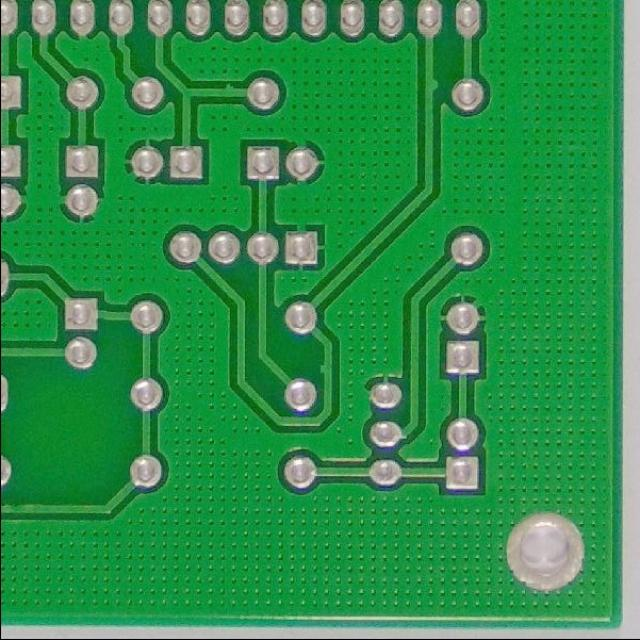Spur: (421, 70, 443, 98), (218, 80, 236, 100), (316, 360, 334, 377)
